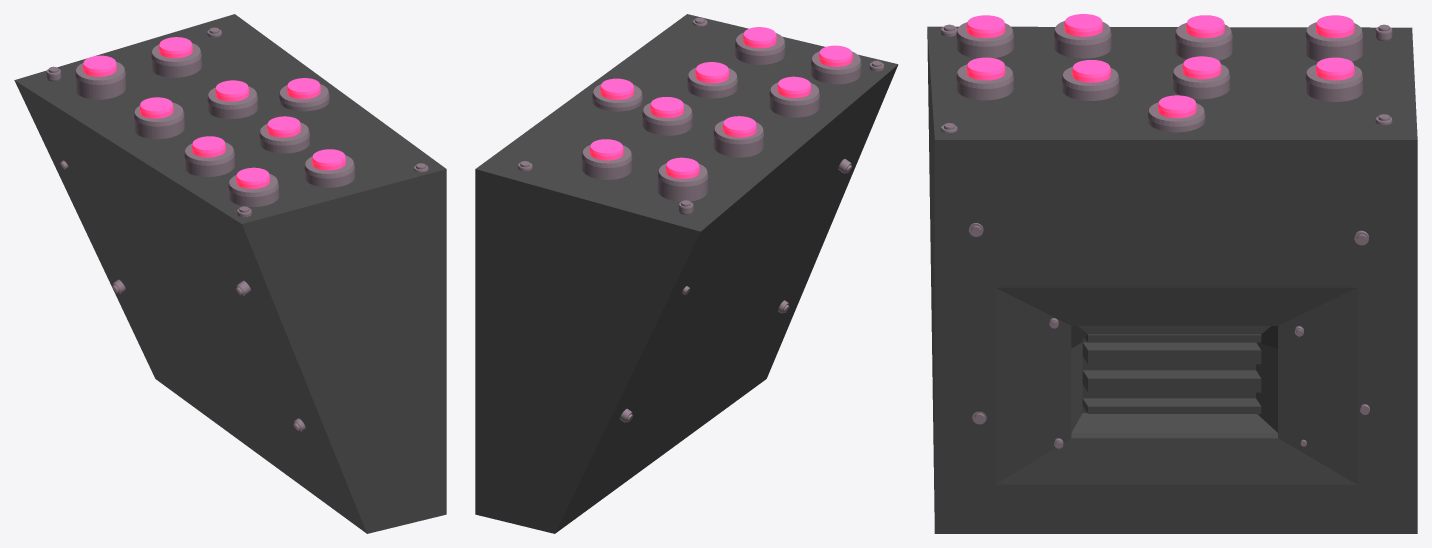
The model's file is button pannel 1.1.fbx.
3 views of the same model, side by side, from view 1: azimuth 30°, elevation 25°; view 2: azimuth 150°, elevation 25°; view 3: azimuth 270°, elevation 25° (orthographic). The views are drawn at different scales.
Visible parts, largest first — view 1: Cube, Cylinder.005, Cylinder.003, Cylinder.013, Cylinder.015, Cylinder.001, Cylinder.011, Cylinder.009, Cylinder.007, Cylinder.021, button 3, button 7 (+8 smaller); view 2: Cube, Cylinder.005, Cylinder.003, Cylinder.013, Cylinder.015, Cylinder.001, Cylinder.011, Cylinder.009, Cylinder.007, Cylinder.021, button 8, button 6 (+8 smaller); view 3: Cube, Cylinder.005, Cylinder.013, Cylinder.015, Cylinder.003, Cylinder.001, Cylinder.009, Cylinder.011, Cylinder.007, Cylinder.021, button 7, button 5 (+9 smaller).
Part boxes in pixels (x1=…): Cube: x1=14, y1=14, x2=446, y2=533; Cylinder.005: x1=75, y1=61, x2=125, y2=99; Cylinder.003: x1=134, y1=102, x2=184, y2=139; Cylinder.013: x1=184, y1=142, x2=234, y2=176; Cylinder.015: x1=151, y1=43, x2=201, y2=77; Cylinder.001: x1=228, y1=173, x2=279, y2=206; Cylinder.011: x1=207, y1=86, x2=258, y2=118; Cylinder.009: x1=304, y1=155, x2=355, y2=187; Cylinder.007: x1=259, y1=122, x2=309, y2=153; Cylinder.021: x1=279, y1=84, x2=329, y2=111; button 3: x1=139, y1=97, x2=173, y2=118; button 7: x1=215, y1=80, x2=249, y2=101; Cube: x1=475, y1=14, x2=898, y2=533; Cylinder.005: x1=657, y1=163, x2=708, y2=201; Cylinder.003: x1=713, y1=120, x2=763, y2=157; Cylinder.013: x1=769, y1=82, x2=819, y2=117; Cylinder.015: x1=581, y1=145, x2=632, y2=179; Cylinder.001: x1=810, y1=51, x2=861, y2=84; Cylinder.011: x1=642, y1=102, x2=692, y2=135; Cylinder.009: x1=734, y1=32, x2=785, y2=64; Cylinder.007: x1=687, y1=67, x2=737, y2=98; Cylinder.021: x1=592, y1=84, x2=642, y2=111; button 8: x1=589, y1=139, x2=623, y2=160; button 6: x1=695, y1=62, x2=729, y2=83; Cube: x1=927, y1=26, x2=1417, y2=533; Cylinder.005: x1=1305, y1=22, x2=1362, y2=61; Cylinder.013: x1=1053, y1=21, x2=1111, y2=58; Cylinder.015: x1=1305, y1=64, x2=1362, y2=101; Cylinder.003: x1=1175, y1=22, x2=1232, y2=60; Cylinder.001: x1=956, y1=22, x2=1013, y2=58; Cylinder.009: x1=956, y1=64, x2=1013, y2=100; Cylinder.011: x1=1172, y1=63, x2=1229, y2=99; Cylinder.007: x1=1061, y1=66, x2=1119, y2=100; Cylinder.021: x1=1147, y1=102, x2=1205, y2=132; button 7: x1=1182, y1=56, x2=1221, y2=79; button 5: x1=966, y1=57, x2=1005, y2=80.
Bounding box in the file's own units: 116 × 178 × 190.
